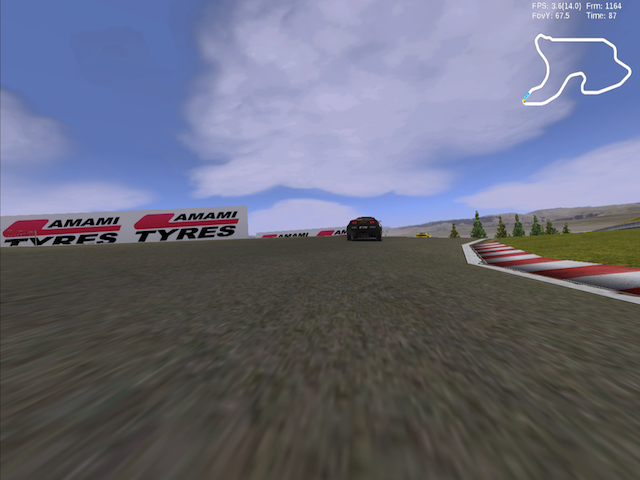Spirit300: (347, 217, 383, 240), (417, 232, 430, 238)
